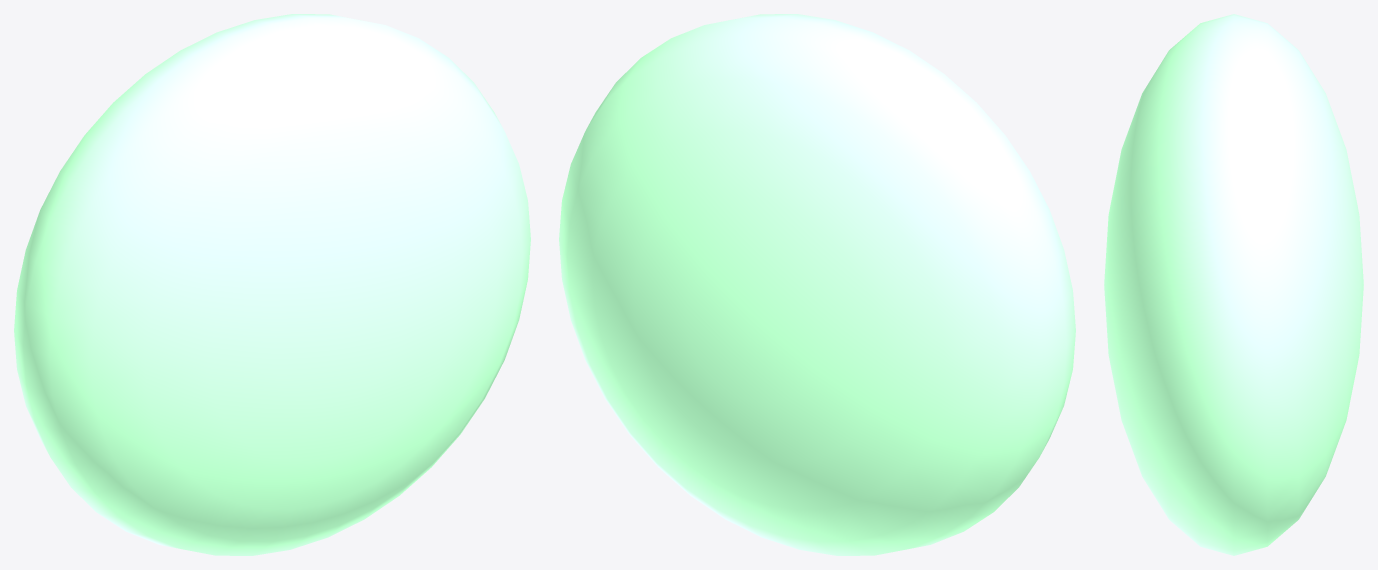
The model's file is city-eye.glb.
3 renders of one model, left to right at view 1: azimuth 30°, elevation 25°; view 2: azimuth 150°, elevation 25°; view 3: azimuth 270°, elevation 25°, orthographic. The views are drawn at different scales.
Visible parts, largest first — view 1: city-eye; view 2: city-eye; view 3: city-eye.
Part boxes in pixels (x1,y1,x2,y2): city-eye: [14, 14, 530, 555]; city-eye: [559, 14, 1075, 555]; city-eye: [1104, 14, 1363, 555].
Bounding box in the file's own units: 0.426 × 0.426 × 0.204.
